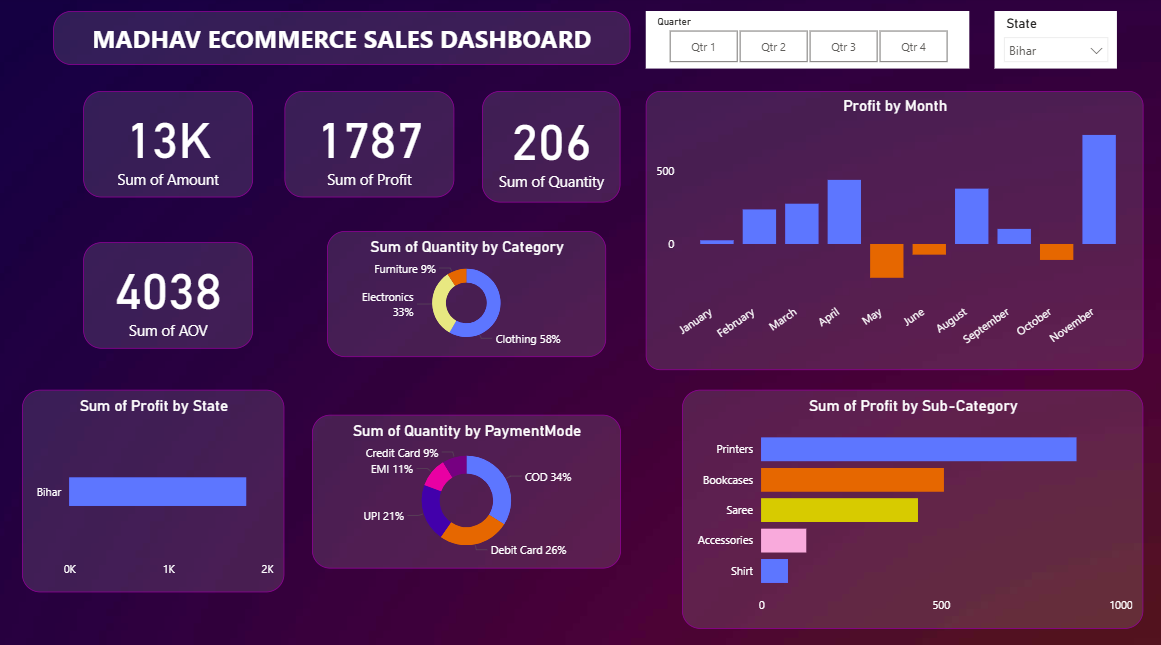

This screenshot's page, from the dashboard's own definition file:
{"tool":"powerbi","page":{"name":"Page 1","canvas":[1280,720],"ordinal":0},"visuals":[{"type":"textbox","box":[61.7,16.5,634,59],"z":0},{"type":"columnChart","title":"Profit by Month","fields":{"Category":["Orders.Order Date.Variation.Date Hierarchy.Month"],"Y":["Sum(Details.Profit)"]},"box":[712.2,104.3,546.1,306],"z":1000},{"type":"barChart","fields":{"Category":["Details.Sub-Category"],"Y":["Sum(Details.Profit)"]},"box":[752,432.2,506.3,262.1],"z":2000},{"type":"donutChart","fields":{"Category":["Details.Category"],"Y":["Sum(Details.Quantity)"]},"box":[362.3,258,306,138.6],"z":3000},{"type":"donutChart","fields":{"Y":["Sum(Details.Quantity)"],"Category":["Details.PaymentMode"]},"box":[345.8,459.7,338.9,168.8],"z":4000},{"type":"card","fields":{"Values":["Sum(Details.Amount)"]},"box":[94.7,104.3,186.6,116.6],"z":5000},{"type":"card","fields":{"Values":["Sum(Details.Profit)"]},"box":[315.6,104.3,186.6,116.6],"z":6000},{"type":"card","fields":{"Values":["Sum(Details.Quantity)"]},"box":[532.4,104.3,152.3,122.1],"z":7000},{"type":"card","fields":{"Values":["Sum(Details.AOV)"]},"box":[94.7,270.3,186.6,116.6],"z":8000},{"type":"barChart","fields":{"Category":["Orders.State"],"Y":["Sum(Details.Profit)"]},"box":[27.4,432.2,288.2,222.3],"z":9000},{"type":"slicer","fields":{"Values":["Orders.Order Date.Variation.Date Hierarchy.Quarter"]},"box":[712.2,16.5,355.4,63.1],"z":10000},{"type":"slicer","fields":{"Values":["Orders.State"]},"box":[1095,16.5,134.5,63.1],"z":11000}]}

Visuals, with their boxes in screenshot pixels (x1, y1, x2, y2), scaled from the page's 1280x720 canvas onto the 1161x645 screenshot:
textbox: locate(56, 15, 631, 68)
"Profit by Month" columnChart: locate(646, 93, 1141, 368)
barChart - Details.Sub-Category x Sum(Details.Profit): locate(682, 387, 1141, 622)
donutChart - Details.Category x Sum(Details.Quantity): locate(329, 231, 606, 355)
donutChart - Sum(Details.Quantity) x Details.PaymentMode: locate(314, 412, 621, 563)
card - Sum(Details.Amount): locate(86, 93, 255, 198)
card - Sum(Details.Profit): locate(286, 93, 456, 198)
card - Sum(Details.Quantity): locate(483, 93, 621, 203)
card - Sum(Details.AOV): locate(86, 242, 255, 347)
barChart - Orders.State x Sum(Details.Profit): locate(25, 387, 286, 586)
slicer - Orders.Order Date.Variation.Date Hierarchy.Quarter: locate(646, 15, 968, 71)
slicer - Orders.State: locate(993, 15, 1115, 71)
